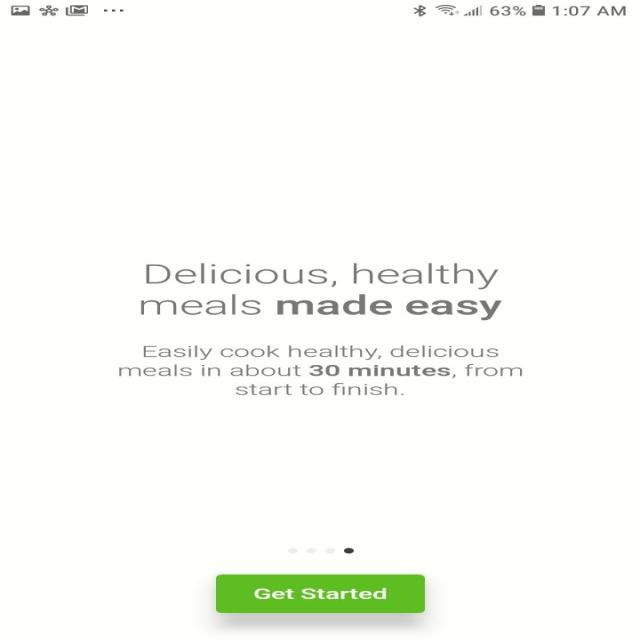Text: (140, 262, 502, 321), (118, 344, 523, 396)
TextButton: (215, 574, 425, 613)
